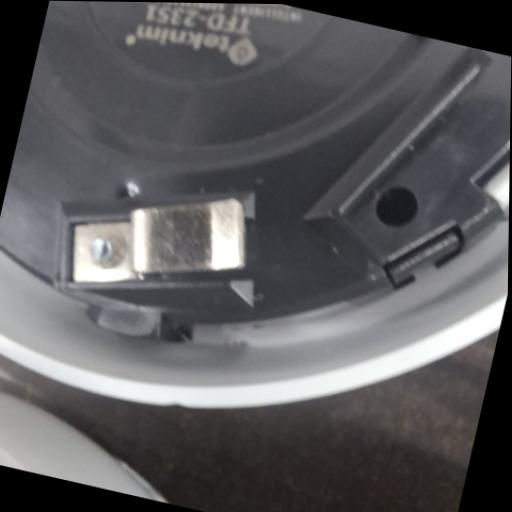yaysiz: (55, 162, 263, 321)
